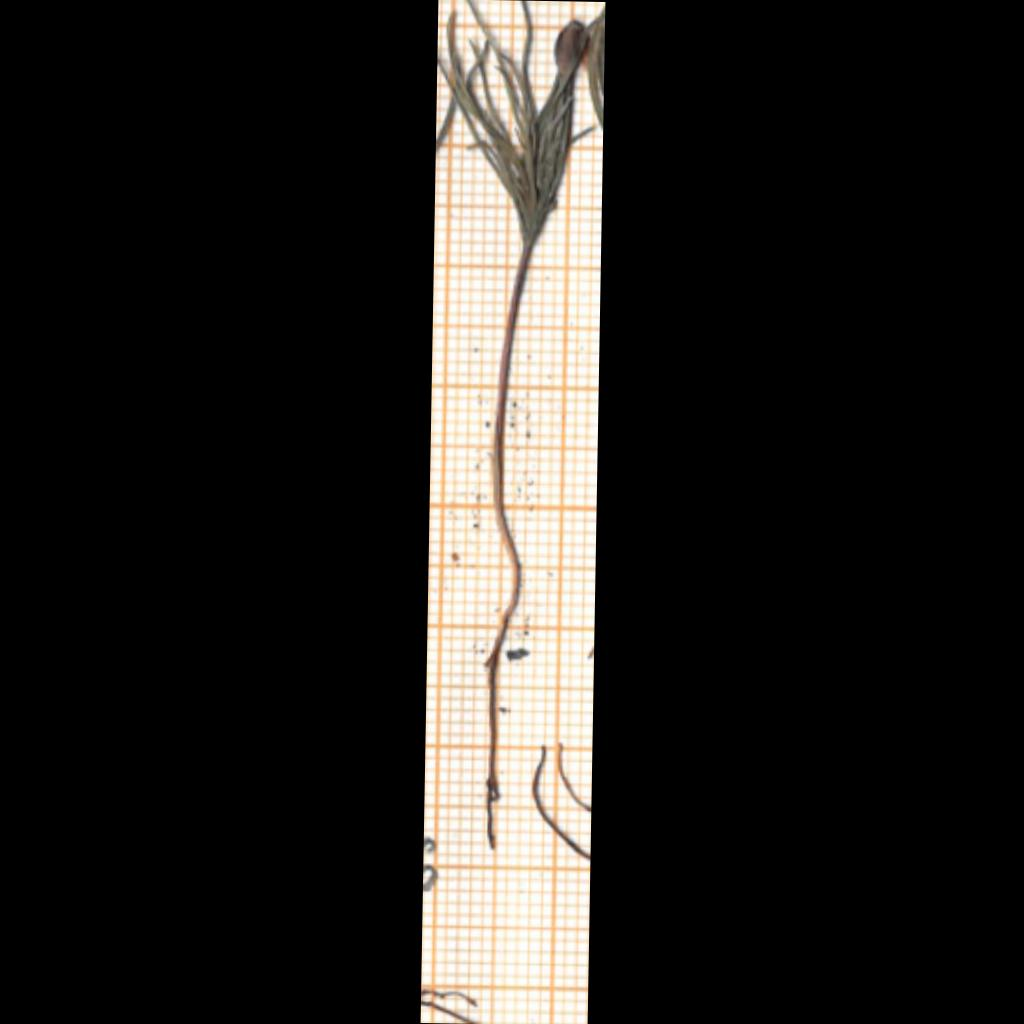flowerPinus: (440, 0, 581, 241)
rootPinus: (486, 653, 498, 849)
stemPinus: (487, 246, 531, 667)
